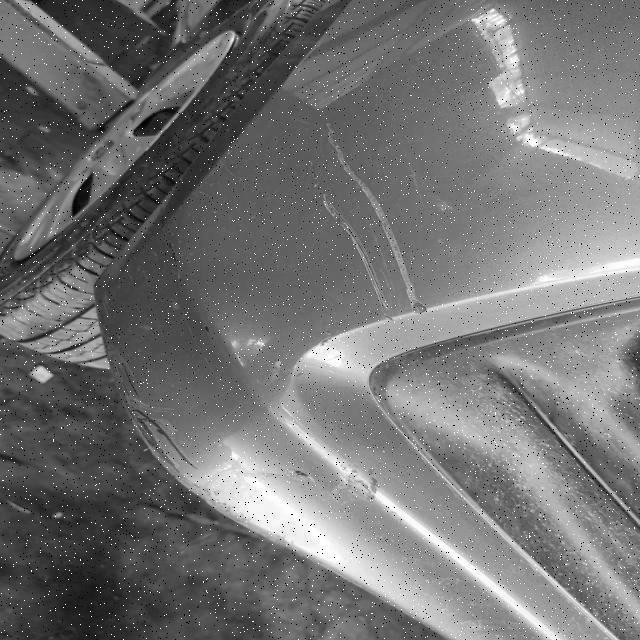front-bumper-dent: (75, 89, 638, 640)
